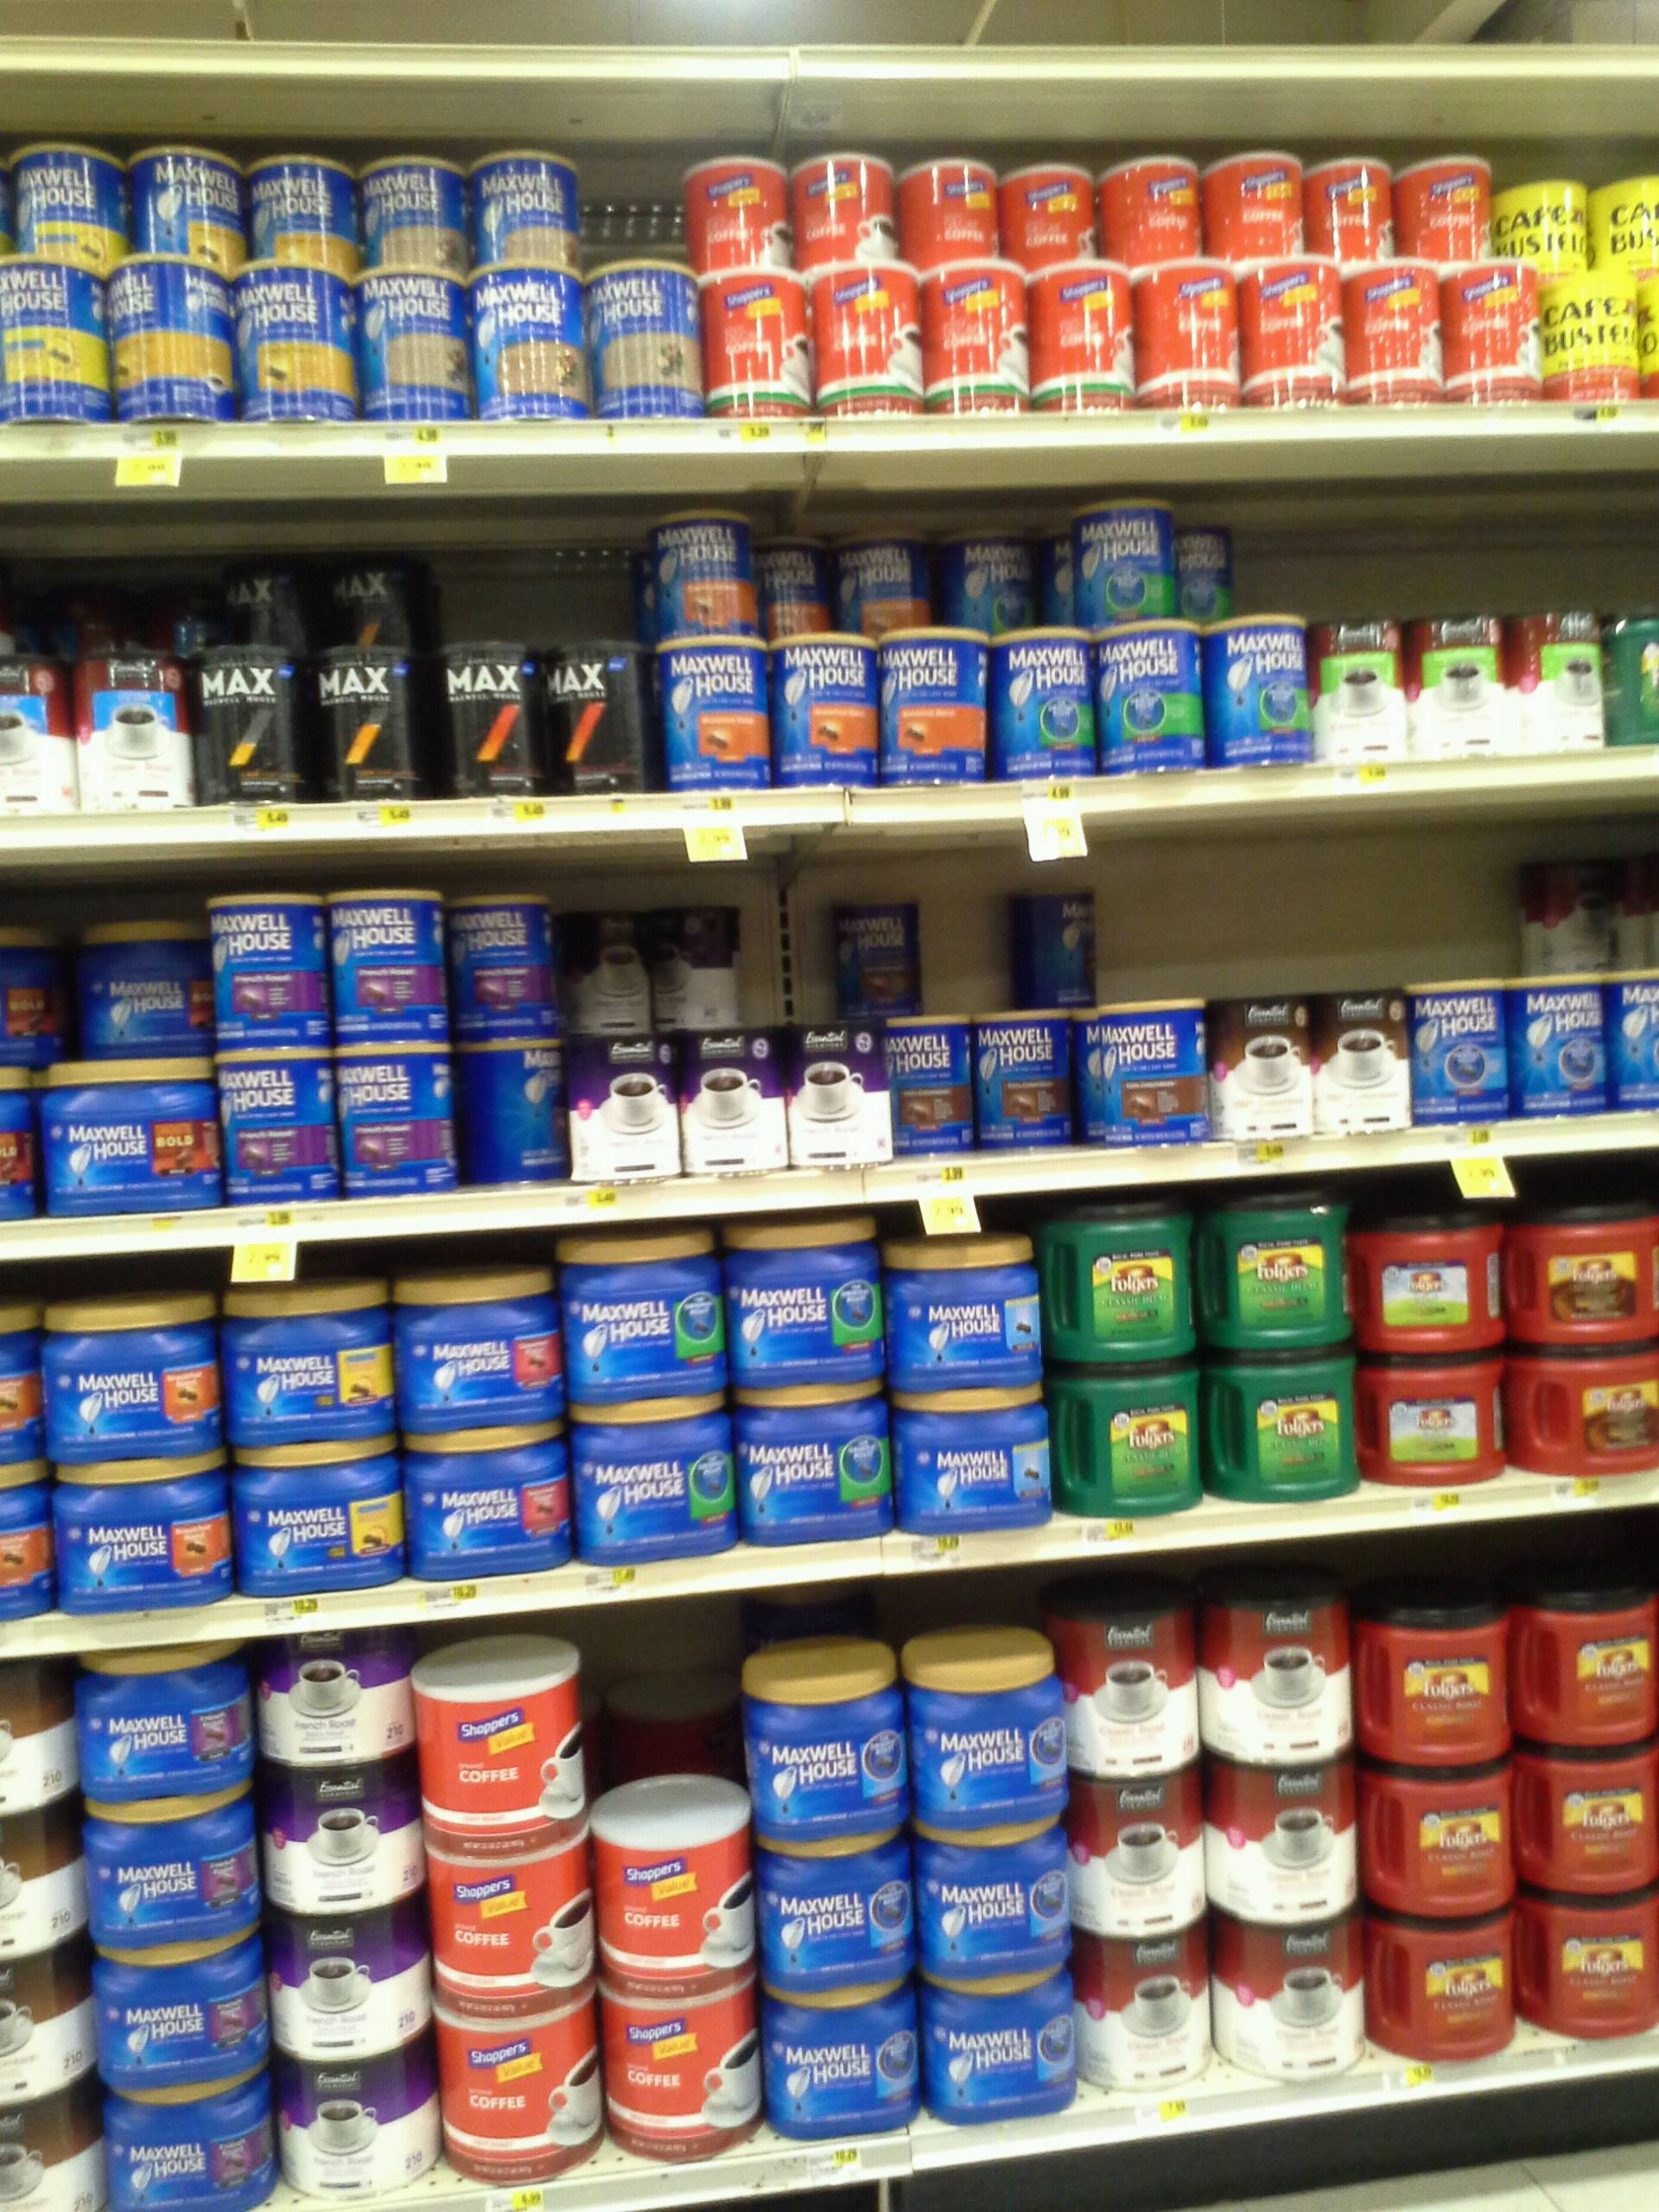Misplacement: (643, 496, 1094, 794), (669, 157, 1492, 280), (455, 892, 753, 1195), (14, 143, 599, 280), (202, 526, 429, 810), (51, 892, 221, 1223), (821, 881, 936, 1181), (1009, 857, 1114, 1150), (1171, 503, 1246, 794)
